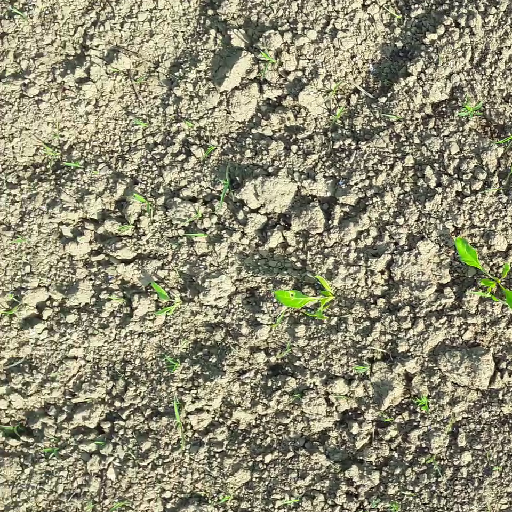sugarbeet: (450, 234, 512, 308), (271, 275, 337, 319), (146, 281, 180, 315)
weed: (216, 164, 229, 207), (172, 395, 183, 444), (460, 101, 486, 120), (259, 51, 277, 77), (131, 194, 152, 216), (330, 104, 345, 131), (6, 5, 28, 22), (1, 422, 23, 437), (473, 291, 498, 302), (40, 448, 62, 460), (383, 113, 409, 123), (184, 208, 200, 224), (63, 160, 88, 170), (282, 495, 301, 508), (167, 356, 178, 373), (9, 234, 26, 245), (1, 305, 19, 315), (416, 394, 426, 411), (112, 500, 124, 512), (135, 77, 148, 88), (115, 225, 133, 232), (281, 342, 290, 356), (92, 440, 107, 448), (187, 234, 210, 239), (84, 501, 94, 512), (388, 502, 400, 511), (135, 119, 148, 127), (354, 366, 367, 373), (428, 456, 437, 466), (183, 119, 192, 127), (218, 496, 228, 503)
